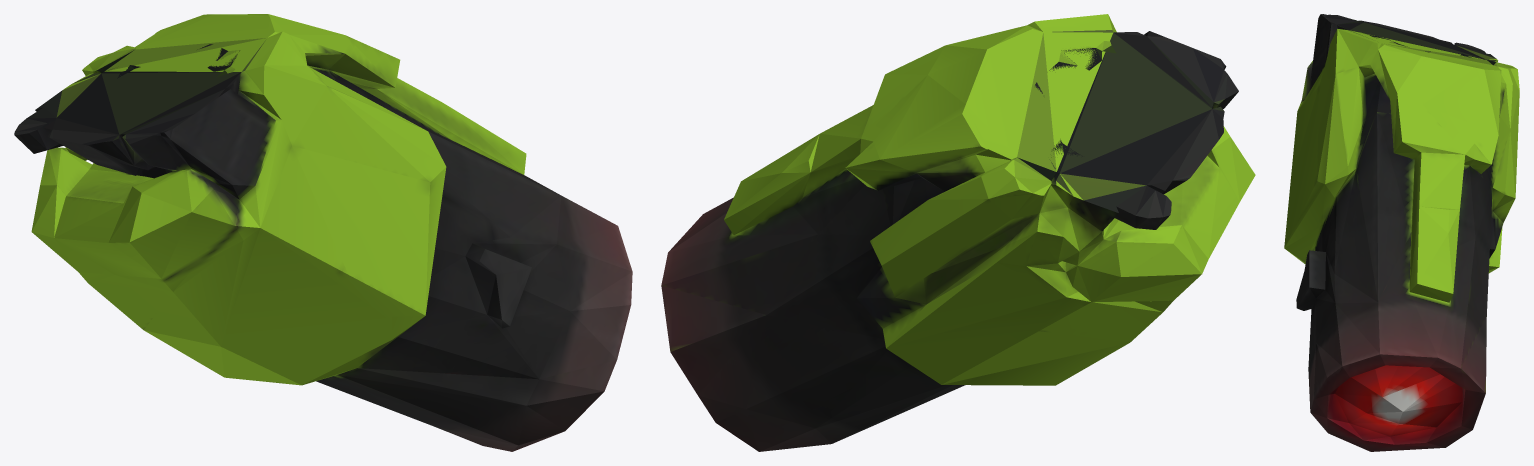
File: SM_ShooterDebris_Forearm_R.fbx
3 views of the same model, side by side, from view 1: azimuth 30°, elevation 25°; view 2: azimuth 150°, elevation 25°; view 3: azimuth 270°, elevation 25° (orthographic). The views are drawn at different scales.
Visible parts, largest first — view 1: SM_ShooterDebris_Forearm_R; view 2: SM_ShooterDebris_Forearm_R; view 3: SM_ShooterDebris_Forearm_R.
Part boxes in pixels (<box>): SM_ShooterDebris_Forearm_R: <box>14,14,632,451</box>; SM_ShooterDebris_Forearm_R: <box>661,14,1255,451</box>; SM_ShooterDebris_Forearm_R: <box>1284,14,1519,451</box>.
Size of the model in its own units: 60.07 by 49.36 by 31.8.
1 material, 1 textured.
